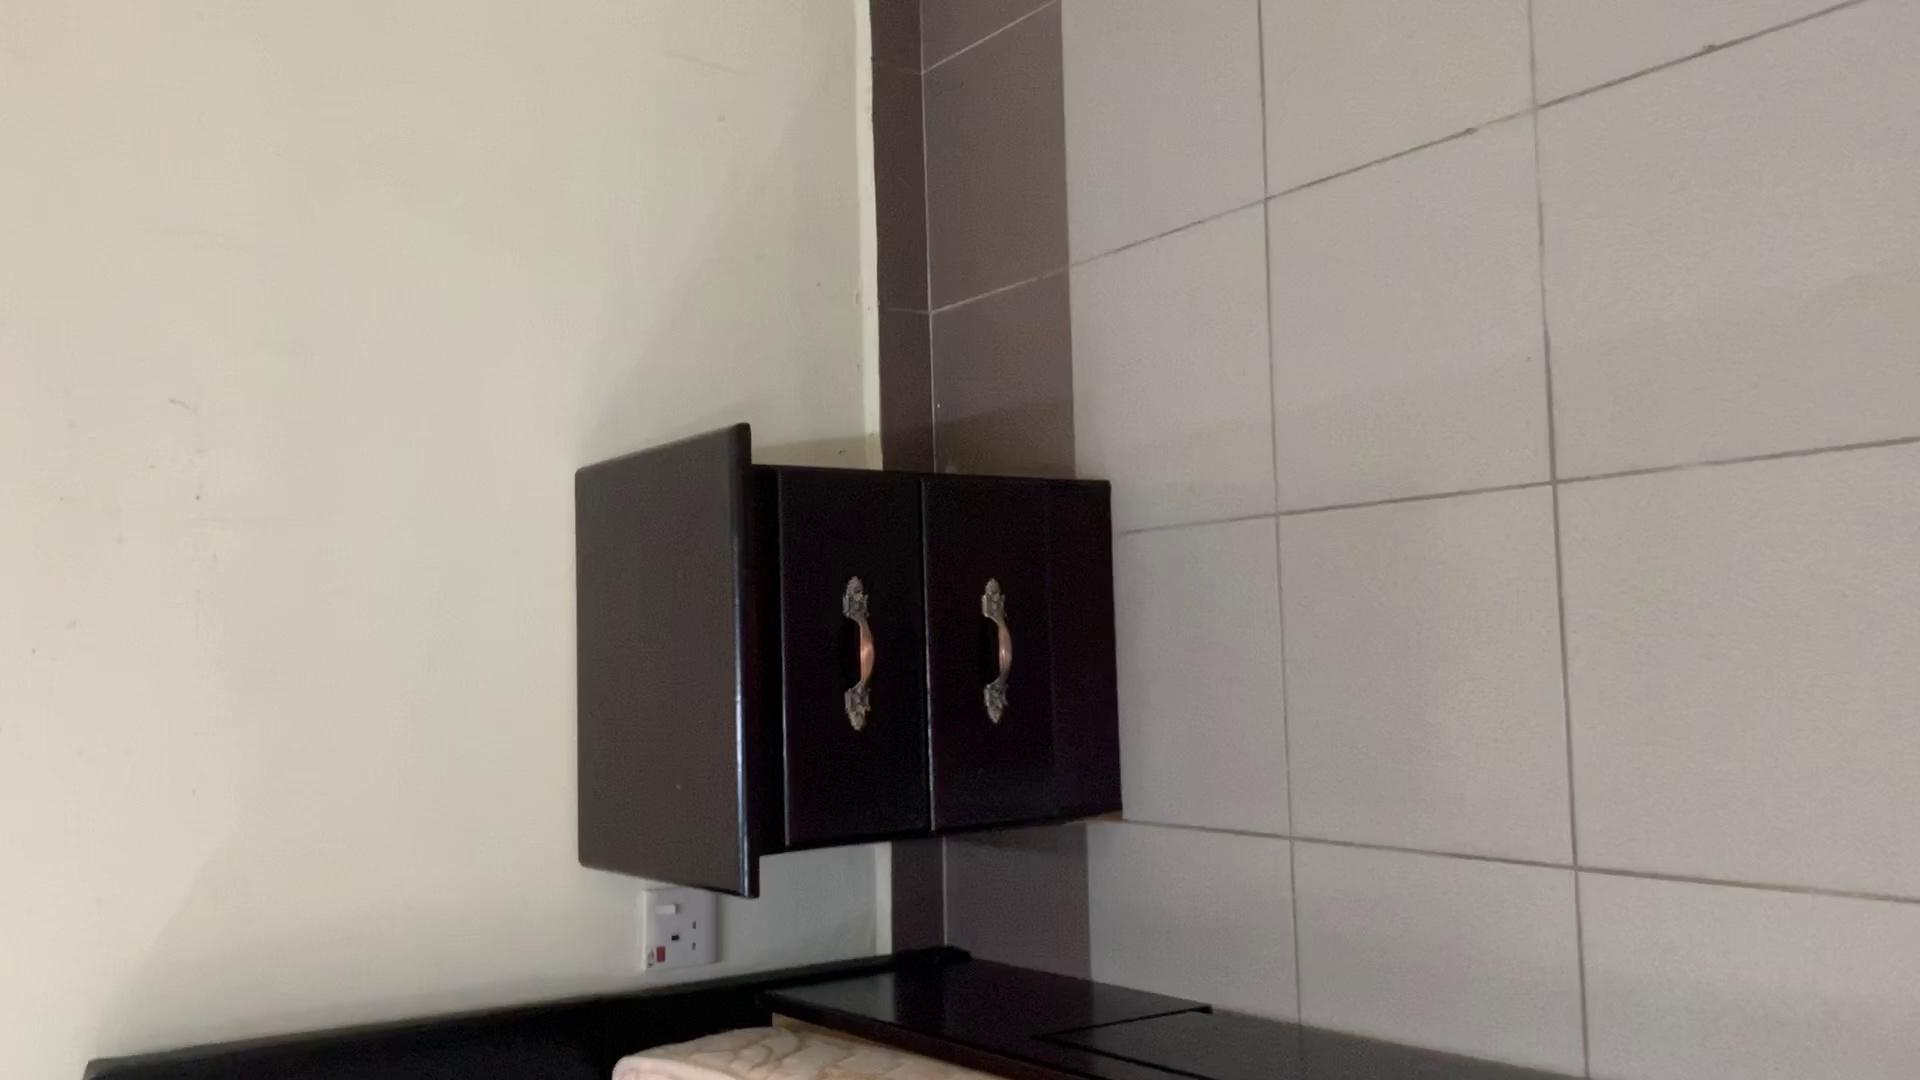cabinet_door: (924, 488, 1105, 811), (783, 484, 928, 841)
handle: (968, 575, 1022, 732), (835, 576, 884, 736)
